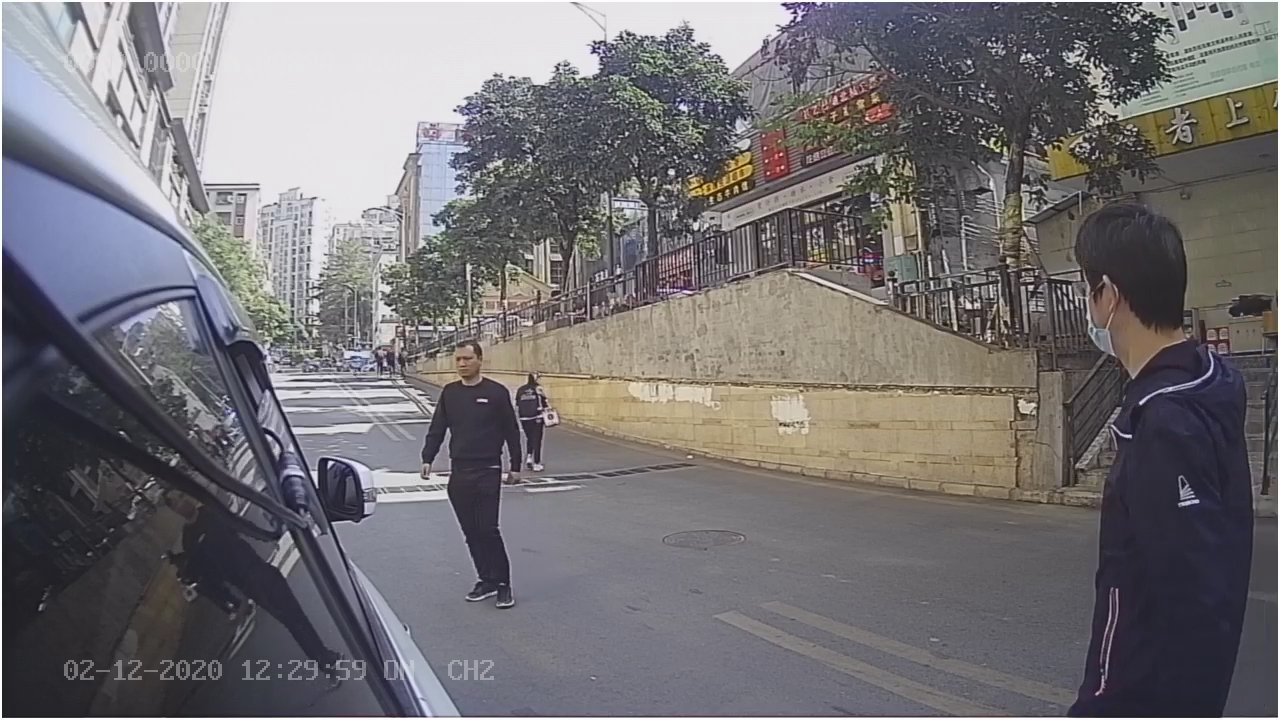person: (1059, 195, 1261, 583), (412, 336, 535, 624)
